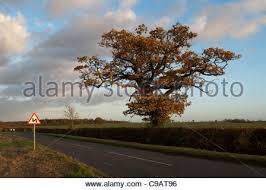Double_bend_left: (26, 111, 42, 125)
